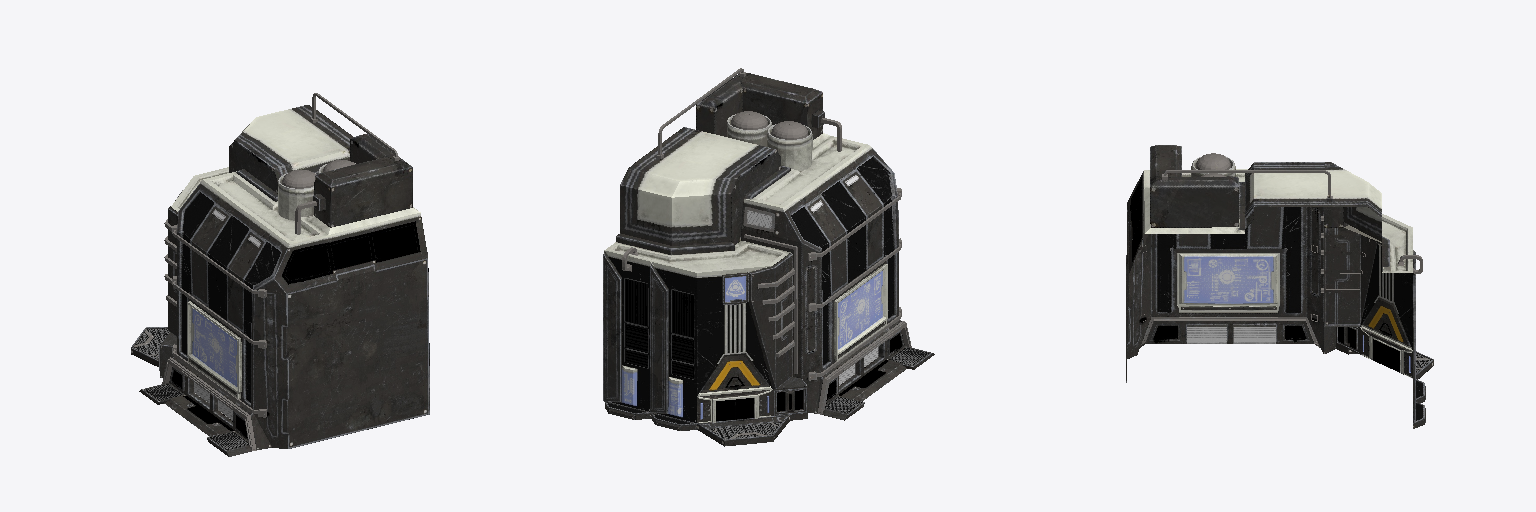
The picture shows the model from 3 angles: view 1: azimuth 30°, elevation 25°; view 2: azimuth 150°, elevation 25°; view 3: azimuth 270°, elevation 25°; orthographic projection.
Parts seen in each view (by area): view 1: Box001; view 2: Box001; view 3: Box001.
Boxes of the visible parts, x1,y1,x2,y2 form: Box001: [131, 93, 429, 456]; Box001: [603, 68, 934, 446]; Box001: [1126, 145, 1433, 428].
Size of the model in its own units: 28.19 by 35 by 38.72.
Materials: 1 (1 with a texture image).